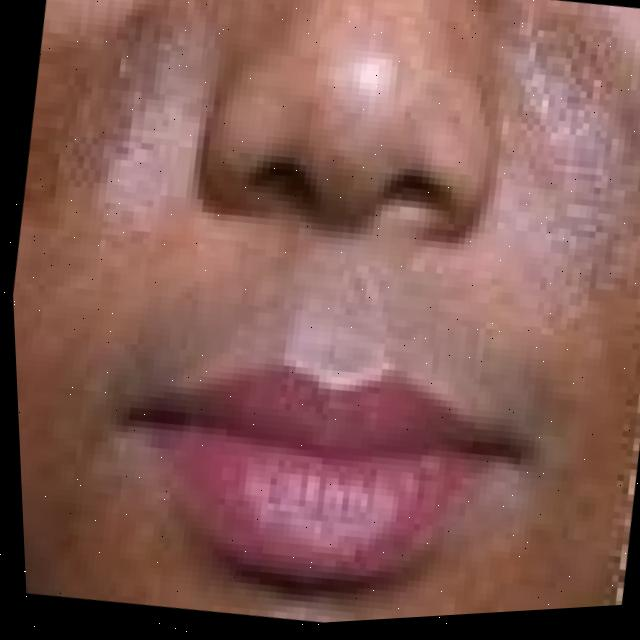Melasma: (469, 58, 640, 385), (15, 36, 183, 234)
